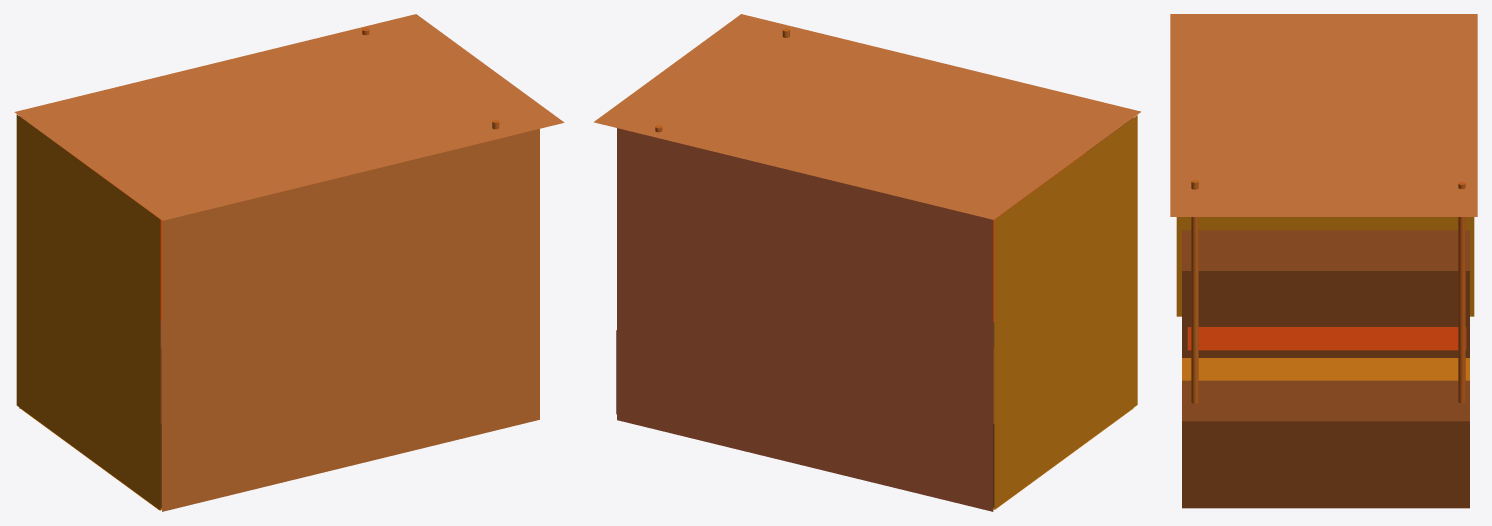
The model's file is BestPutka.dae.
3 views of the same model, side by side, from view 1: azimuth 30°, elevation 25°; view 2: azimuth 150°, elevation 25°; view 3: azimuth 270°, elevation 25° (orthographic). The views are drawn at different scales.
Visible parts, largest first — view 1: Plane_001, Plane_004, Plane_005; view 2: Plane_002, Plane_004, Plane_005; view 3: Plane_004, Cube_000, Cube_001, Plane_003, Plane, Plane_005, Cylinder, Cylinder_001.
Part boxes in pixels (left/top/right/bottom): Plane_001: left=162, top=129, right=539, bottom=511; Plane_004: left=14, top=14, right=564, bottom=220; Plane_005: left=16, top=114, right=160, bottom=510; Plane_002: left=617, top=128, right=993, bottom=511; Plane_004: left=594, top=14, right=1140, bottom=219; Plane_005: left=994, top=115, right=1137, bottom=509; Plane_004: left=1170, top=14, right=1477, bottom=216; Cube_000: left=1182, top=380, right=1469, bottom=508; Cube_001: left=1182, top=230, right=1469, bottom=357; Plane_003: left=1187, top=327, right=1466, bottom=350; Plane: left=1182, top=358, right=1469, bottom=380; Plane_005: left=1176, top=217, right=1474, bottom=316; Cylinder: left=1191, top=179, right=1198, bottom=403; Cylinder_001: left=1458, top=181, right=1465, bottom=403.
Size of the model in its own units: 10 by 6.4 by 7.19.
